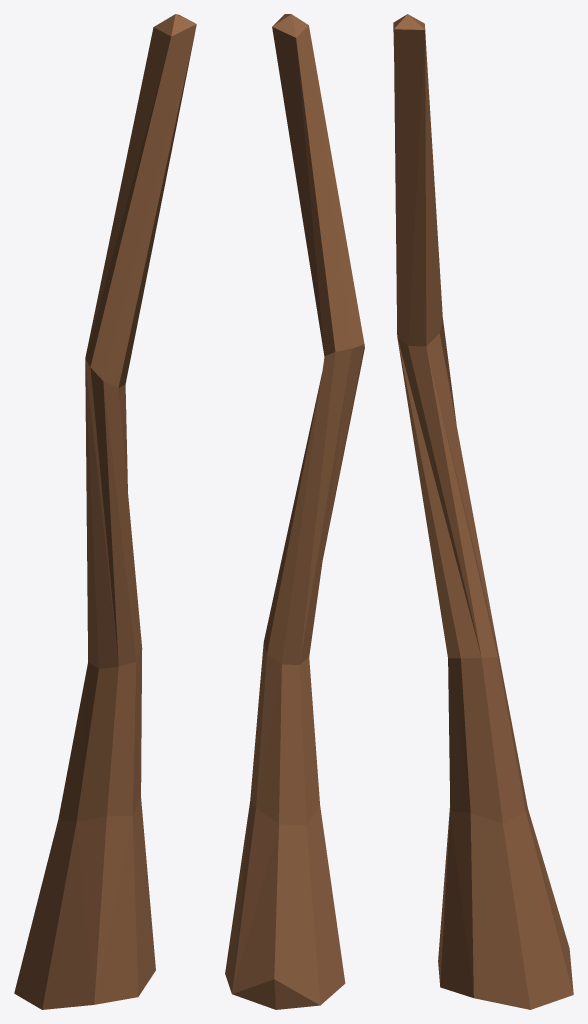
File: tree-dead-trunk-031.glb
3 views of the same model, side by side, from view 1: azimuth 30°, elevation 25°; view 2: azimuth 150°, elevation 25°; view 3: azimuth 270°, elevation 25° (orthographic). The views are drawn at different scales.
Parts seen in each view (by area): view 1: Plane.073_490; view 2: Plane.073_490; view 3: Plane.073_490.
Boxes of the visible parts, left/top/right/bottom form: Plane.073_490: left=14, top=14, right=196, bottom=1009; Plane.073_490: left=225, top=14, right=364, bottom=1009; Plane.073_490: left=393, top=14, right=573, bottom=1009.
Bounding box in the file's own units: 0.2446 × 2.13 × 0.3478.
